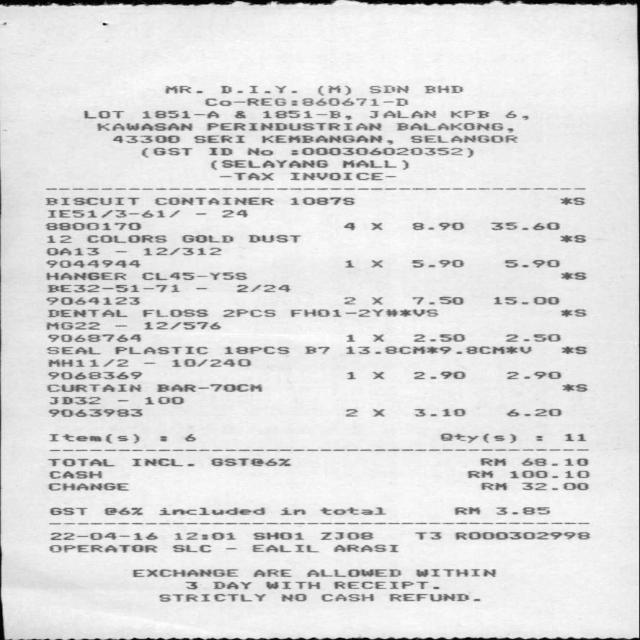text: (290, 148, 472, 158), (204, 98, 406, 106), (205, 122, 380, 131), (344, 346, 530, 354), (261, 134, 391, 144), (396, 122, 512, 133), (210, 159, 326, 170), (47, 209, 179, 218), (289, 309, 436, 317), (453, 532, 589, 540), (46, 284, 179, 292), (158, 593, 264, 602), (154, 197, 272, 205), (262, 110, 350, 120), (48, 544, 156, 552), (409, 135, 516, 143), (49, 532, 156, 540), (130, 569, 237, 577), (158, 507, 264, 515), (141, 272, 246, 280), (156, 384, 261, 392), (333, 581, 438, 589), (45, 296, 138, 305), (47, 371, 140, 380), (290, 172, 394, 180), (48, 434, 138, 443), (95, 122, 191, 130), (44, 222, 140, 230), (44, 260, 139, 268), (45, 384, 140, 392), (305, 569, 400, 577), (46, 334, 140, 342), (47, 409, 141, 417), (113, 346, 206, 354), (440, 433, 514, 443), (85, 234, 166, 243), (219, 85, 296, 94), (341, 160, 407, 170), (46, 482, 128, 490), (45, 198, 138, 205), (46, 359, 127, 367), (44, 272, 124, 280), (46, 309, 126, 317), (415, 569, 495, 577), (210, 458, 289, 466), (171, 359, 249, 367), (141, 110, 218, 118), (493, 296, 558, 305), (388, 594, 468, 601), (509, 471, 588, 478), (490, 222, 559, 230), (143, 248, 220, 255), (250, 544, 317, 552), (143, 322, 219, 329), (368, 110, 434, 118), (112, 135, 178, 143), (141, 309, 207, 317), (521, 458, 587, 466), (521, 482, 587, 490), (48, 458, 113, 466), (319, 507, 384, 515), (289, 197, 353, 205), (224, 346, 288, 354), (333, 544, 397, 552), (141, 148, 191, 158), (130, 458, 192, 466), (504, 333, 559, 342), (173, 532, 234, 540), (504, 259, 558, 268), (45, 346, 99, 355), (320, 593, 373, 602), (411, 259, 463, 268), (48, 470, 100, 479), (181, 234, 232, 243), (412, 333, 463, 342), (49, 396, 100, 405), (412, 296, 462, 305), (44, 322, 99, 330), (505, 371, 560, 379), (505, 408, 560, 416), (219, 172, 273, 180), (494, 507, 548, 515), (264, 581, 318, 589), (236, 284, 289, 292), (192, 135, 244, 143), (222, 309, 274, 317), (412, 371, 464, 379), (320, 532, 372, 540), (413, 408, 464, 416), (412, 222, 462, 230), (252, 532, 302, 540), (45, 248, 98, 255), (247, 235, 299, 242), (368, 85, 407, 94), (83, 110, 122, 119), (144, 396, 182, 405), (164, 85, 201, 94), (316, 85, 349, 95), (423, 85, 462, 93), (449, 110, 488, 118), (171, 544, 210, 552), (103, 508, 141, 516), (252, 569, 290, 577), (212, 582, 250, 590), (50, 507, 86, 515), (560, 383, 586, 392), (280, 593, 306, 602), (504, 110, 527, 120), (222, 209, 246, 218), (479, 482, 506, 490), (413, 532, 440, 540), (246, 148, 272, 156), (558, 197, 584, 205), (44, 235, 70, 243), (560, 272, 586, 280), (560, 309, 586, 317), (560, 346, 586, 354), (454, 507, 479, 515), (279, 507, 304, 515), (304, 346, 328, 354), (480, 458, 504, 466), (207, 148, 230, 156), (467, 471, 492, 478), (560, 235, 584, 242), (564, 434, 584, 442), (368, 222, 383, 231), (370, 258, 382, 268), (371, 408, 384, 417), (344, 408, 357, 417), (342, 222, 354, 231), (371, 371, 383, 380), (368, 297, 383, 304), (342, 297, 355, 305), (370, 334, 383, 342), (182, 434, 195, 442), (184, 582, 196, 590), (233, 110, 244, 118), (344, 260, 355, 268), (347, 371, 356, 380), (345, 334, 353, 343)
